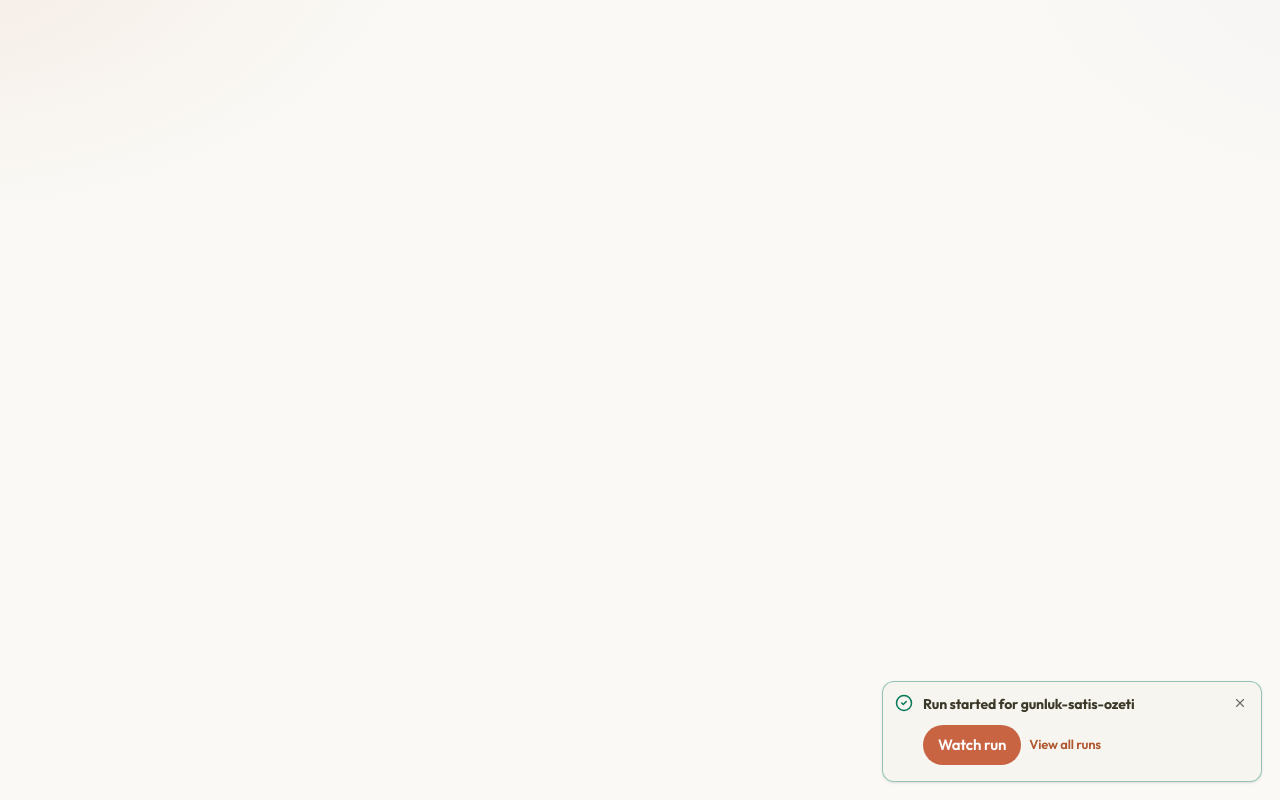
Test case: Toaster › shows a success toast with an action and dismisses it from the close button
Expected: the text "Run started for gunluk-satis-ozeti" is shown, [923,694,1134,712]
Click the button named "Close".
click(1240, 702)  # box [1231,694,1249,712]
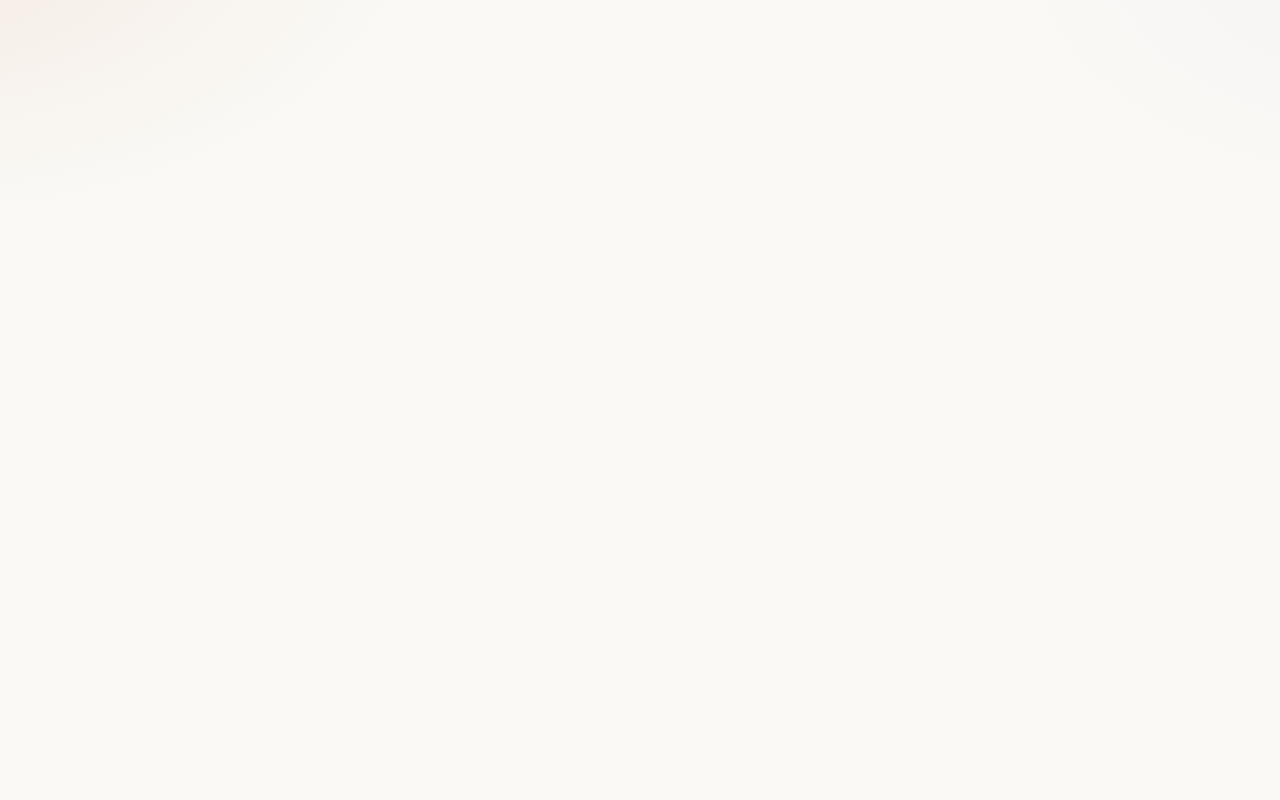
Now the text "Run started for gunluk-satis-ozeti" is gone
